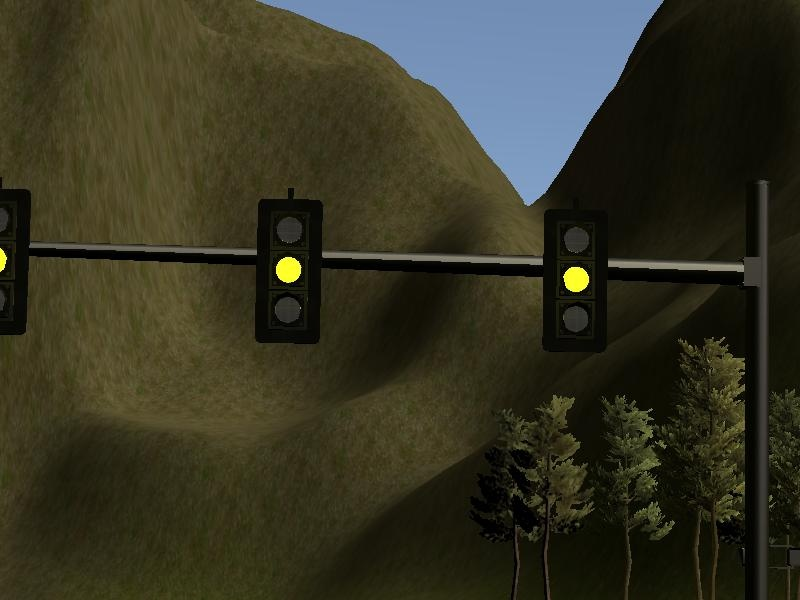YELLOW: (254, 197, 325, 347), (541, 204, 612, 354)
